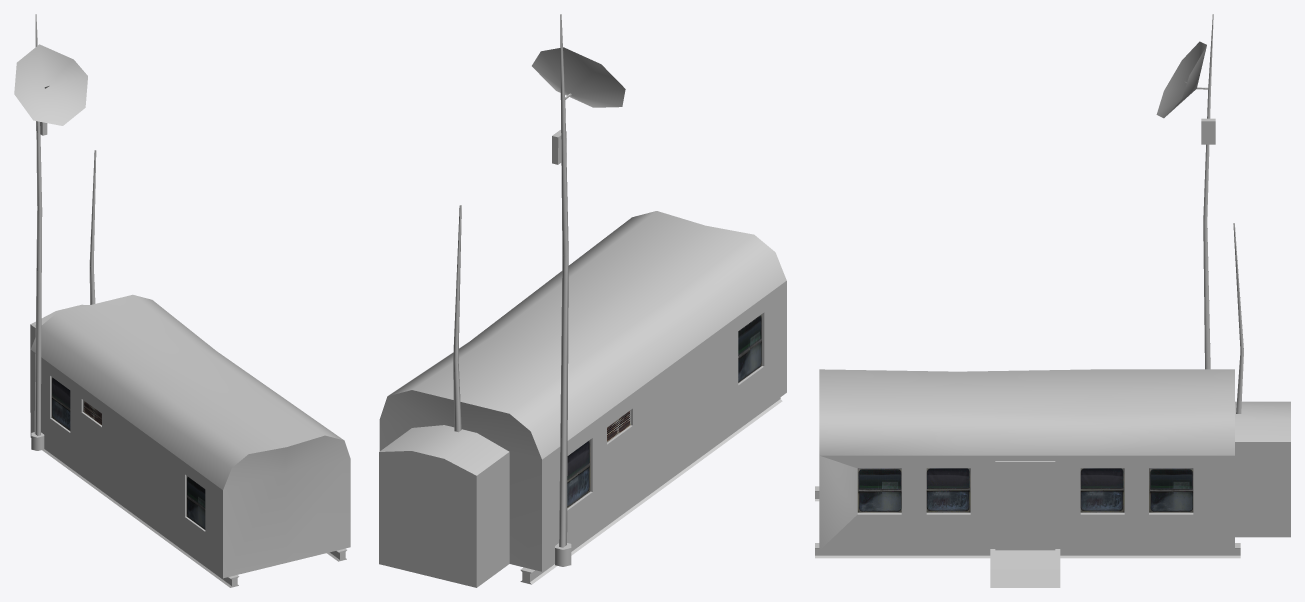
The model's file is TDAWV2_Booth.fbx.
The picture shows the model from 3 angles, left to right: view 1: azimuth 30°, elevation 25°; view 2: azimuth 150°, elevation 25°; view 3: azimuth 270°, elevation 25°; orthographic projection. The views are drawn at different scales.
Visible parts, largest first — view 1: TDAWV2_Booth; view 2: TDAWV2_Booth; view 3: TDAWV2_Booth.
Part boxes in pixels (bbox=[...]): TDAWV2_Booth: bbox=[14, 14, 350, 587]; TDAWV2_Booth: bbox=[379, 14, 786, 587]; TDAWV2_Booth: bbox=[815, 14, 1290, 587].
Bounding box in the file's own units: 5954 × 10311 × 11406.
